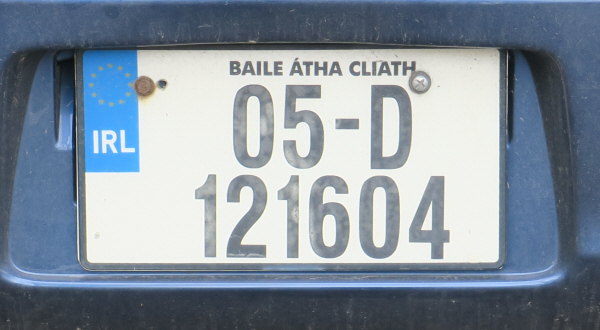license_plate: (75, 44, 508, 271)
